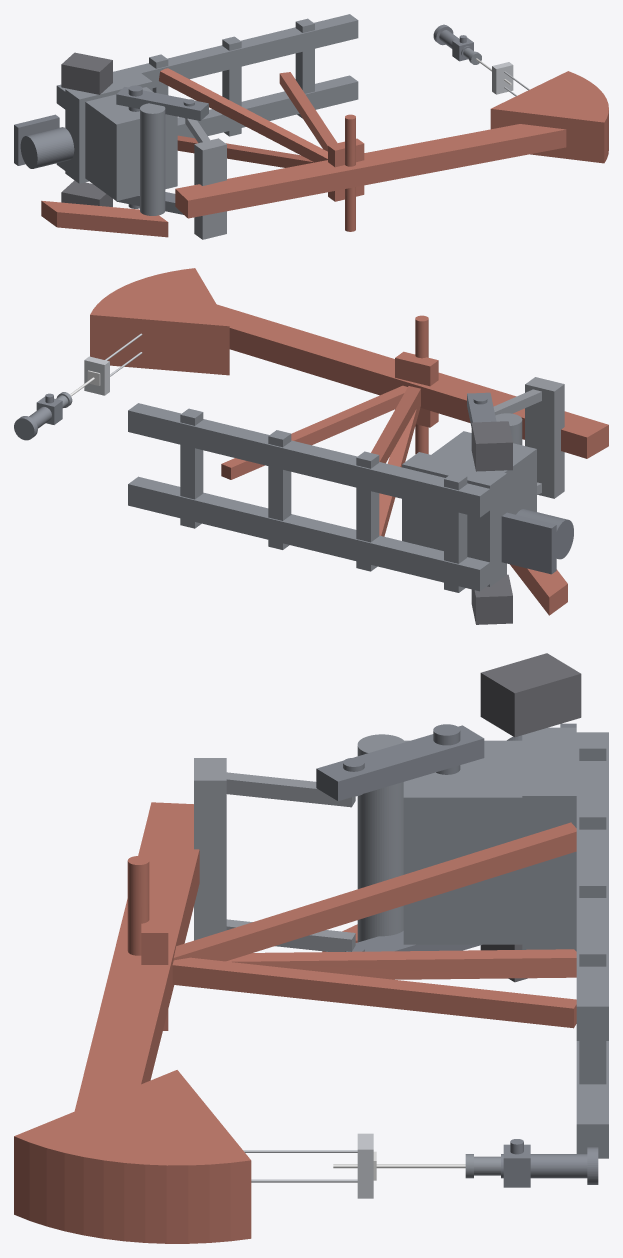
File: AL-BEAMUNIT.glb
The picture shows the model from 3 angles, top to bottom: view 1: azimuth 30°, elevation 25°; view 2: azimuth 150°, elevation 25°; view 3: azimuth 270°, elevation 25°; orthographic projection. The views are drawn at different scales.
Parts seen in each view (by area): view 1: AL-BEAMUNIT-WALKINGBEAM, AL-BEAMUNIT-GEARREDUCER, AL-BEAMUNIT-BASE, AL-BEAMUNIT-SAMSONPOST, AL-BEAMUNIT-HORSEHEAD, AL-BEAMUNIT-BELTGUARD, AL-BEAMUNIT-COUNTERWEIGHT, AL-BEAMUNIT-PRIMEMOVER, AL-BEAMUNIT-EQUALIZER, AL-BEAMUNIT-CRANK, AL-BEAMUNIT-WELLHEAD, AL-BEAMUNIT-BRIDLE (+1 smaller); view 2: AL-BEAMUNIT-BASE, AL-BEAMUNIT-HORSEHEAD, AL-BEAMUNIT-WALKINGBEAM, AL-BEAMUNIT-GEARREDUCER, AL-BEAMUNIT-SAMSONPOST, AL-BEAMUNIT-PRIMEMOVER, AL-BEAMUNIT-EQUALIZER, AL-BEAMUNIT-COUNTERWEIGHT, AL-BEAMUNIT-BELTGUARD, AL-BEAMUNIT-WELLHEAD, AL-BEAMUNIT-BRIDLE, AL-BEAMUNIT-CRANK (+1 smaller); view 3: AL-BEAMUNIT-SAMSONPOST, AL-BEAMUNIT-GEARREDUCER, AL-BEAMUNIT-HORSEHEAD, AL-BEAMUNIT-WALKINGBEAM, AL-BEAMUNIT-BASE, AL-BEAMUNIT-CRANK, AL-BEAMUNIT-COUNTERWEIGHT, AL-BEAMUNIT-EQUALIZER, AL-BEAMUNIT-PITMAN, AL-BEAMUNIT-WELLHEAD, AL-BEAMUNIT-BRIDLE.
Part boxes in pixels (box(x1,y1,x2,y2)): AL-BEAMUNIT-WALKINGBEAM: box(175, 124, 566, 218); AL-BEAMUNIT-GEARREDUCER: box(65, 71, 177, 215); AL-BEAMUNIT-BASE: box(56, 14, 358, 170); AL-BEAMUNIT-SAMSONPOST: box(159, 68, 364, 231); AL-BEAMUNIT-HORSEHEAD: box(490, 71, 608, 163); AL-BEAMUNIT-BELTGUARD: box(41, 200, 168, 237); AL-BEAMUNIT-COUNTERWEIGHT: box(61, 52, 112, 206); AL-BEAMUNIT-PRIMEMOVER: box(14, 114, 74, 168); AL-BEAMUNIT-EQUALIZER: box(194, 138, 226, 239); AL-BEAMUNIT-CRANK: box(116, 85, 208, 214); AL-BEAMUNIT-WELLHEAD: box(433, 24, 473, 61); AL-BEAMUNIT-BRIDLE: box(492, 62, 529, 96); AL-BEAMUNIT-BASE: box(128, 403, 489, 592); AL-BEAMUNIT-HORSEHEAD: box(90, 268, 229, 375); AL-BEAMUNIT-WALKINGBEAM: box(217, 304, 608, 458); AL-BEAMUNIT-GEARREDUCER: box(402, 413, 536, 586); AL-BEAMUNIT-SAMSONPOST: box(221, 315, 438, 536); AL-BEAMUNIT-PRIMEMOVER: box(501, 509, 573, 574); AL-BEAMUNIT-EQUALIZER: box(525, 377, 564, 498); AL-BEAMUNIT-COUNTERWEIGHT: box(471, 421, 512, 624); AL-BEAMUNIT-BELTGUARD: box(510, 564, 567, 615); AL-BEAMUNIT-WELLHEAD: box(14, 393, 62, 440); AL-BEAMUNIT-BRIDLE: box(84, 333, 142, 395); AL-BEAMUNIT-CRANK: box(467, 392, 496, 427); AL-BEAMUNIT-SAMSONPOST: box(127, 822, 576, 1030); AL-BEAMUNIT-GEARREDUCER: box(357, 727, 576, 951); AL-BEAMUNIT-HORSEHEAD: box(14, 1070, 251, 1243); AL-BEAMUNIT-WALKINGBEAM: box(74, 802, 199, 1111); AL-BEAMUNIT-BASE: box(576, 732, 608, 1158); AL-BEAMUNIT-CRANK: box(316, 724, 484, 951); AL-BEAMUNIT-COUNTERWEIGHT: box(480, 653, 581, 982); AL-BEAMUNIT-EQUALIZER: box(194, 758, 226, 940); AL-BEAMUNIT-PITMAN: box(226, 772, 355, 951); AL-BEAMUNIT-WELLHEAD: box(501, 1139, 598, 1187); AL-BEAMUNIT-BRIDLE: box(243, 1133, 373, 1198).
Bounding box in the file's own units: 9.88 × 3 × 5.59.
